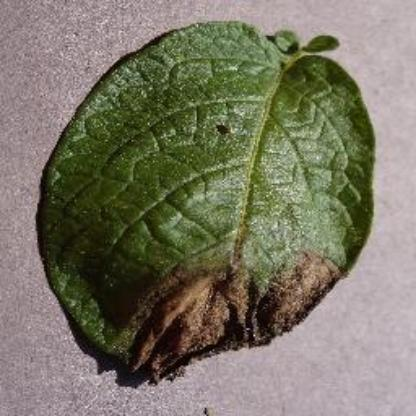Late-Blight: (24, 12, 388, 394)
